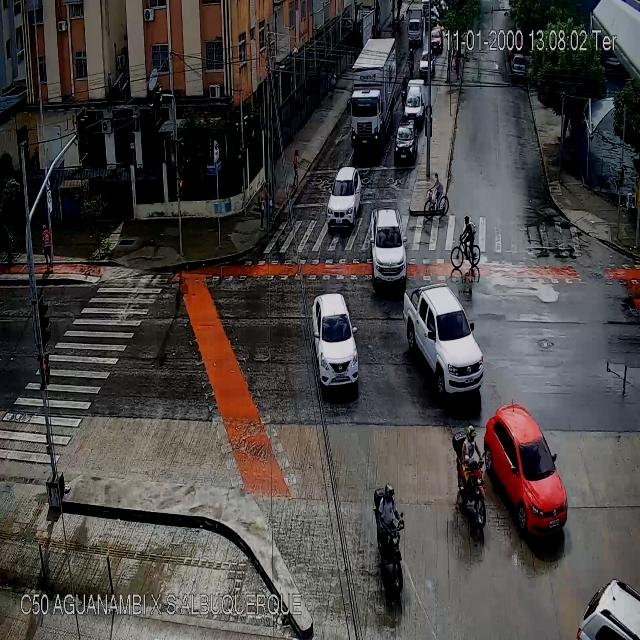Car: (486, 405, 569, 540), (403, 283, 487, 397), (566, 560, 640, 640), (312, 292, 358, 382), (370, 208, 409, 284), (329, 164, 362, 234), (451, 213, 480, 270), (394, 124, 417, 163), (418, 49, 436, 81), (431, 23, 444, 54), (512, 53, 526, 79)
Motorcycle: (457, 425, 489, 533), (374, 485, 405, 594), (401, 76, 407, 111), (408, 48, 415, 78)
Truck: (347, 37, 397, 147), (406, 2, 427, 46)
